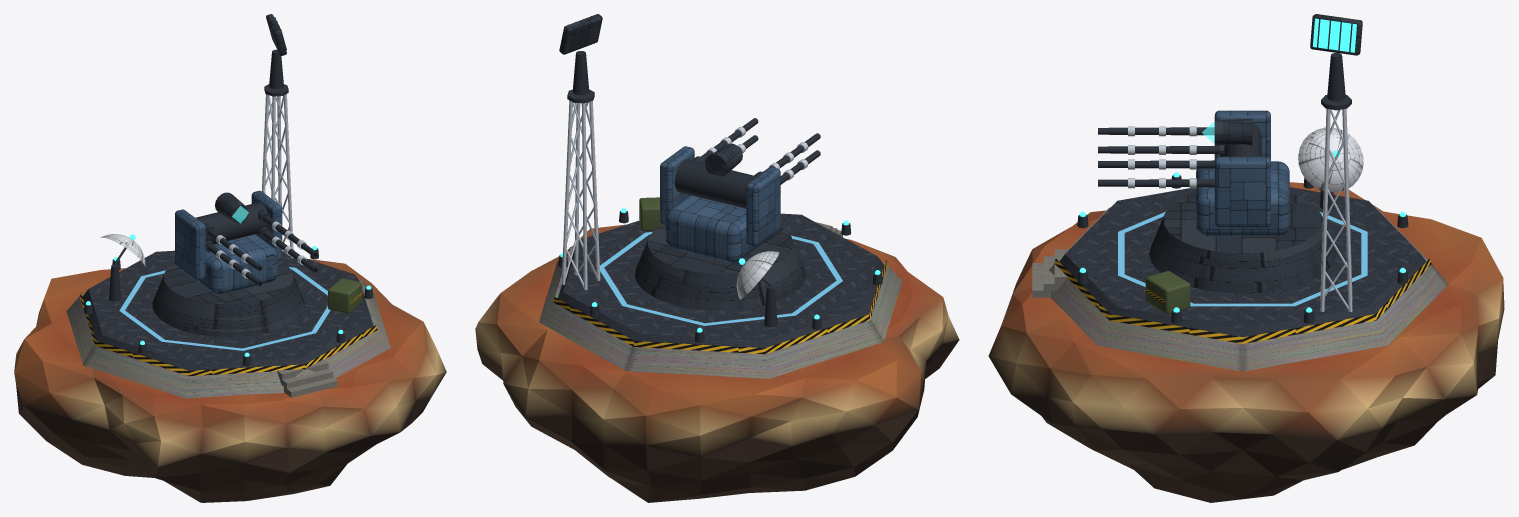
The model's file is aadefense-L25.glb.
The picture shows the model from 3 angles, left to right: view 1: azimuth 30°, elevation 25°; view 2: azimuth 150°, elevation 25°; view 3: azimuth 270°, elevation 25°; orthographic projection. The views are drawn at different scales.
Parts seen in each view (by area): view 1: object 1, object 4, object 25, object 2, anim:yaw, anim:rc (×4), anim:pitch, object 3, object 5, object 72, object 22, object 23 (+2 smaller); view 2: object 1, object 4, object 2, object 25, anim:yaw, anim:pitch, object 3, anim:rot (×2), object 5, object 72, object 70, anim:rc; view 3: object 1, object 4, object 2, object 25, anim:yaw, anim:rot (×2), anim:rc (×4), object 3, anim:pitch, object 5, object 72, object 70.
Boxes of the visible parts, left/top/right/bottom form: object 1: left=14, top=259, right=446, bottom=502; object 4: left=82, top=250, right=373, bottom=370; object 25: left=152, top=260, right=304, bottom=336; object 2: left=66, top=279, right=390, bottom=398; anim:yaw: left=175, top=190, right=282, bottom=294; anim:rc (×4): left=203, top=209, right=317, bottom=286; anim:pitch: left=195, top=192, right=268, bottom=243; object 3: left=79, top=292, right=377, bottom=375; object 5: left=119, top=267, right=330, bottom=350; object 72: left=328, top=278, right=362, bottom=313; object 22: left=284, top=377, right=337, bottom=397; object 23: left=279, top=368, right=333, bottom=388; object 1: left=475, top=224, right=959, bottom=502; object 4: left=557, top=213, right=883, bottom=348; object 2: left=539, top=246, right=902, bottom=378; object 25: left=635, top=224, right=805, bottom=310; anim:yaw: left=660, top=146, right=780, bottom=262; anim:pitch: left=674, top=143, right=757, bottom=208; object 3: left=553, top=260, right=887, bottom=354; anim:rot (×2): left=559, top=14, right=779, bottom=299; object 5: left=600, top=231, right=842, bottom=325; object 72: left=639, top=197, right=662, bottom=230; object 70: left=572, top=51, right=589, bottom=95; anim:rc: left=692, top=118, right=758, bottom=163; object 1: left=988, top=182, right=1504, bottom=502; object 4: left=1059, top=187, right=1426, bottom=337; object 2: left=1049, top=207, right=1448, bottom=371; object 25: left=1149, top=193, right=1336, bottom=293; anim:yaw: left=1196, top=110, right=1289, bottom=236; anim:rot (×2): left=1298, top=14, right=1363, bottom=192; anim:rc (×4): left=1098, top=126, right=1224, bottom=188; object 3: left=1054, top=258, right=1431, bottom=343; anim:pitch: left=1202, top=118, right=1261, bottom=156; object 5: left=1118, top=211, right=1367, bottom=306; object 72: left=1145, top=271, right=1190, bottom=314; object 70: left=1327, top=53, right=1345, bottom=101.
Size of the model in its own units: 5.6 by 5.56 by 5.51.
16 materials, 7 textured.
